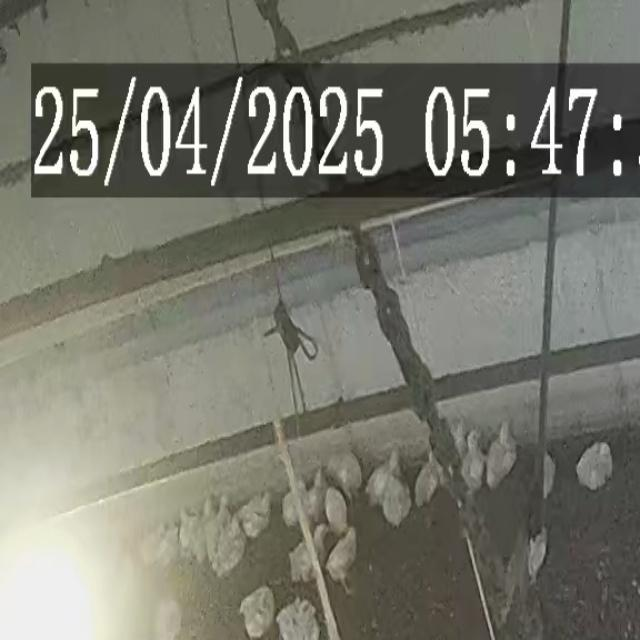chicken: (208, 506, 244, 578), (285, 468, 325, 530), (325, 526, 358, 593), (178, 499, 210, 566), (368, 448, 403, 507), (571, 439, 614, 487), (324, 448, 362, 500), (239, 585, 277, 637), (276, 597, 320, 639), (377, 474, 410, 528), (486, 436, 516, 492), (238, 492, 272, 540), (460, 431, 484, 495), (412, 457, 440, 511), (140, 528, 169, 568), (324, 487, 348, 535), (288, 541, 314, 585), (527, 531, 548, 582)
